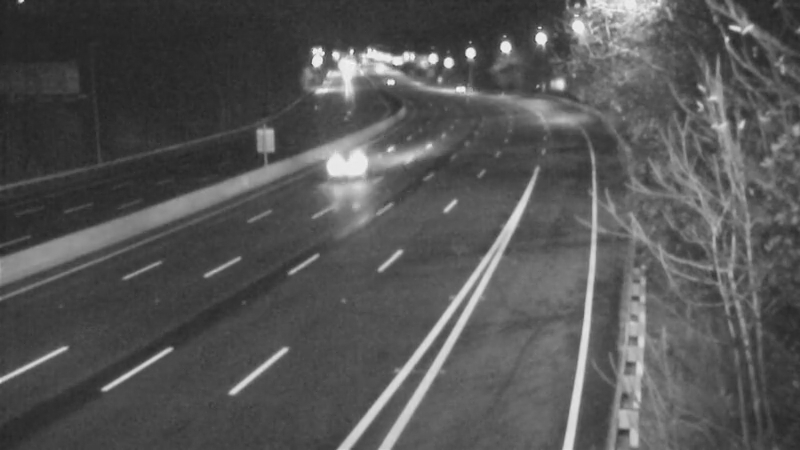vehicle: (308, 122, 388, 202), (438, 63, 488, 113)
